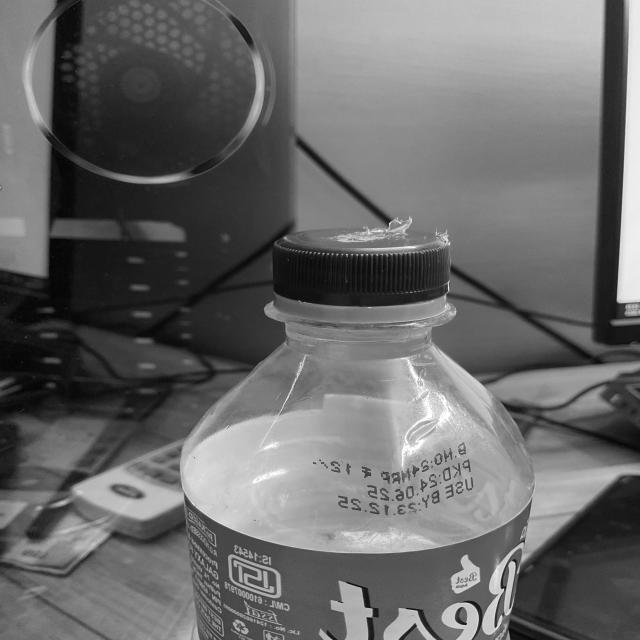Good-cap-Df0S: (267, 225, 454, 317)
